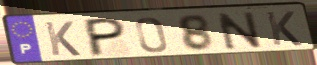0: (133, 16, 170, 54)
8: (176, 13, 216, 53)
K: (263, 10, 304, 47), (42, 20, 83, 57)
N: (214, 10, 265, 52)
P: (85, 16, 128, 59)
